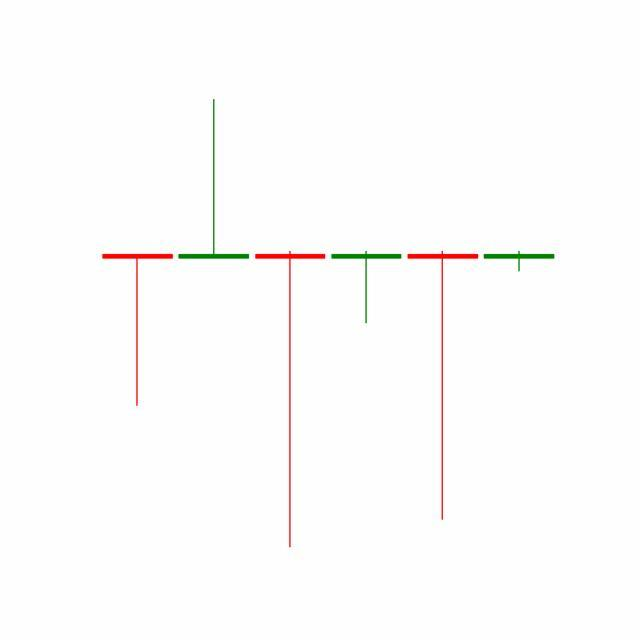Dragonfly Doji: (404, 249, 482, 524)
